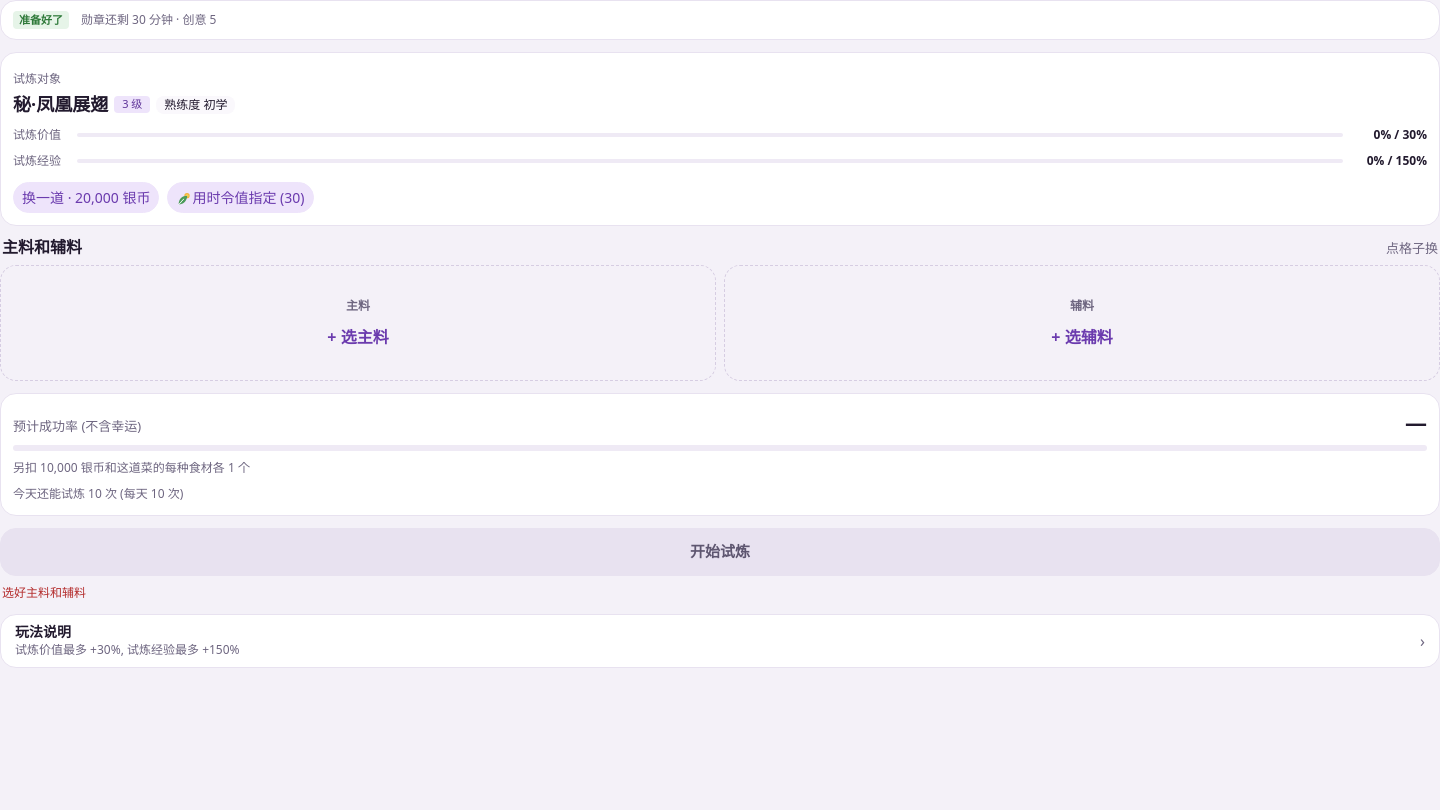
TrialPanel › 试炼后重读橱柜：数量跟着变，用光的从主辅里去掉、主料槽空出来（终审）
Click the button with test id "trial-slot-main" at (358, 322), box [0,264,716,380]
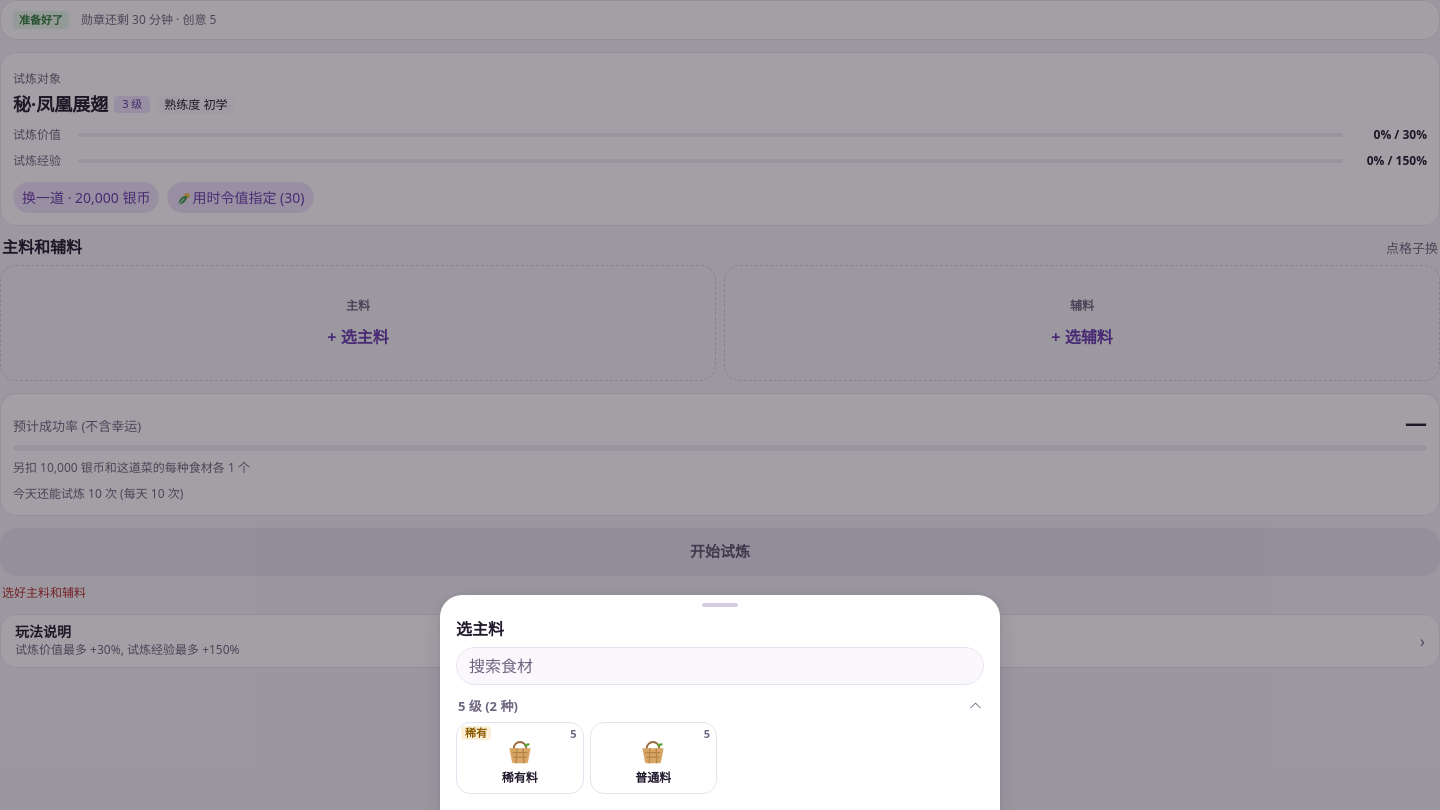
Click the button with test id "trial-food-150" at (520, 758), box [456,722,584,794]
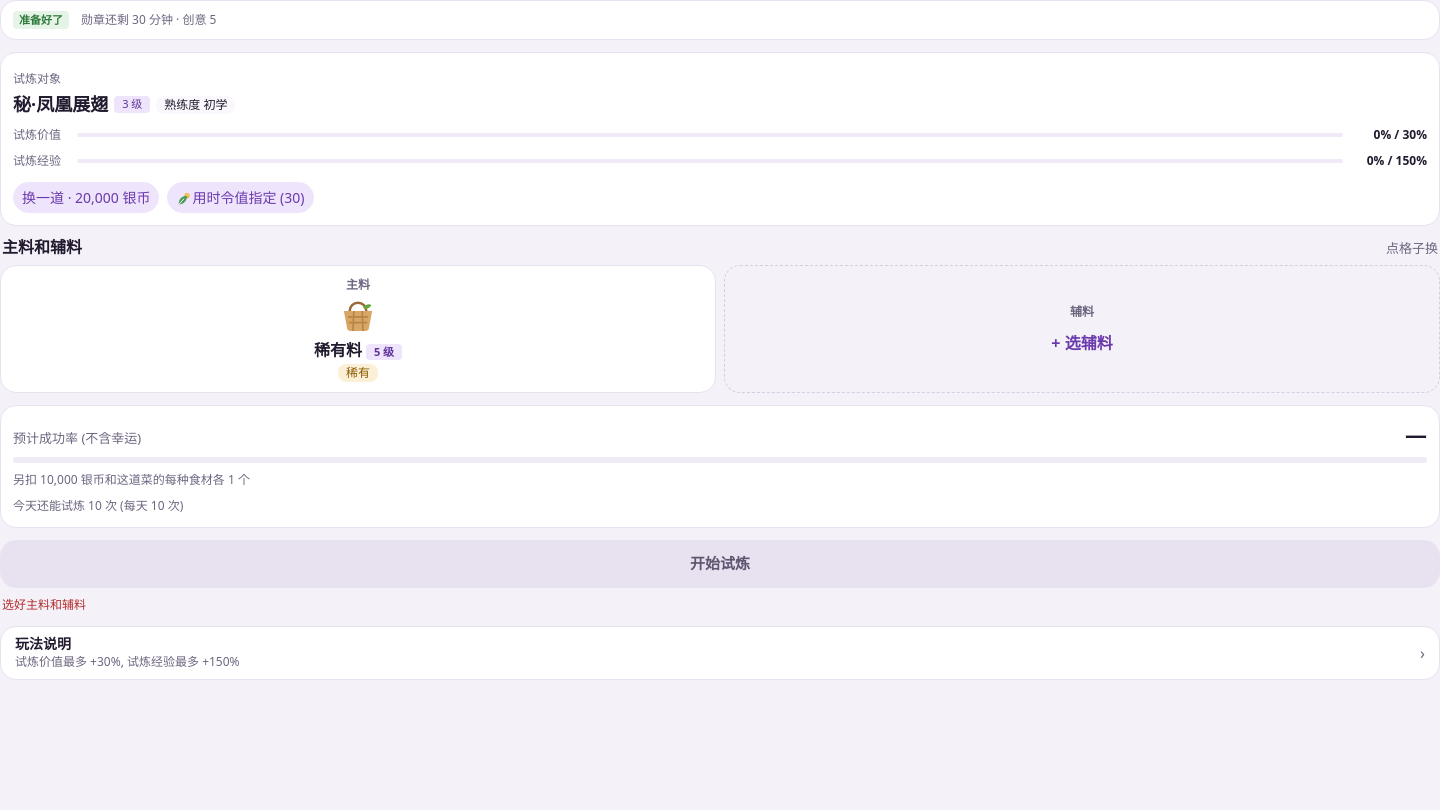
Click the button with test id "trial-slot-sub" at (1082, 328), box [724,264,1439,392]
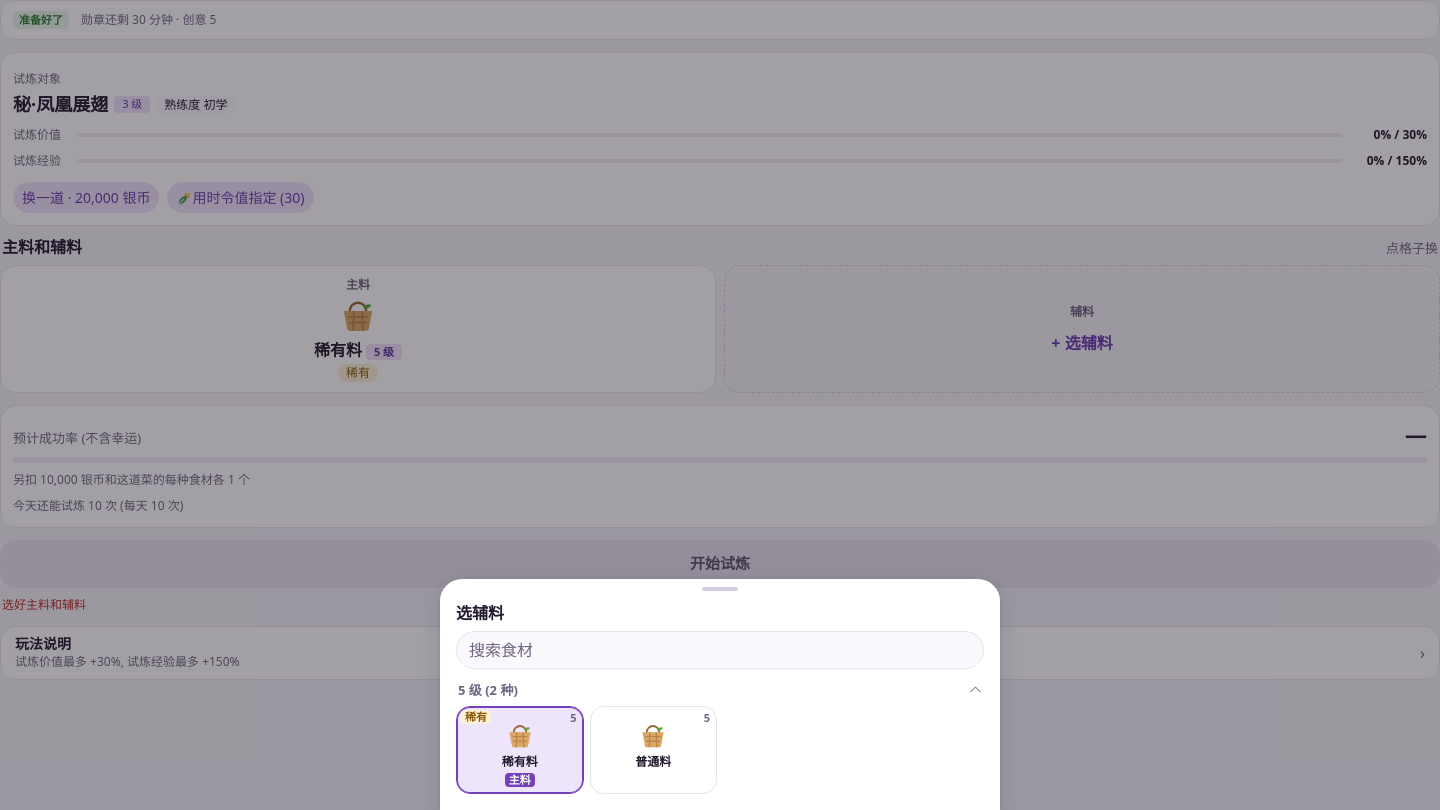
Click the button with test id "trial-food-423" at (653, 750), box [590,706,717,794]
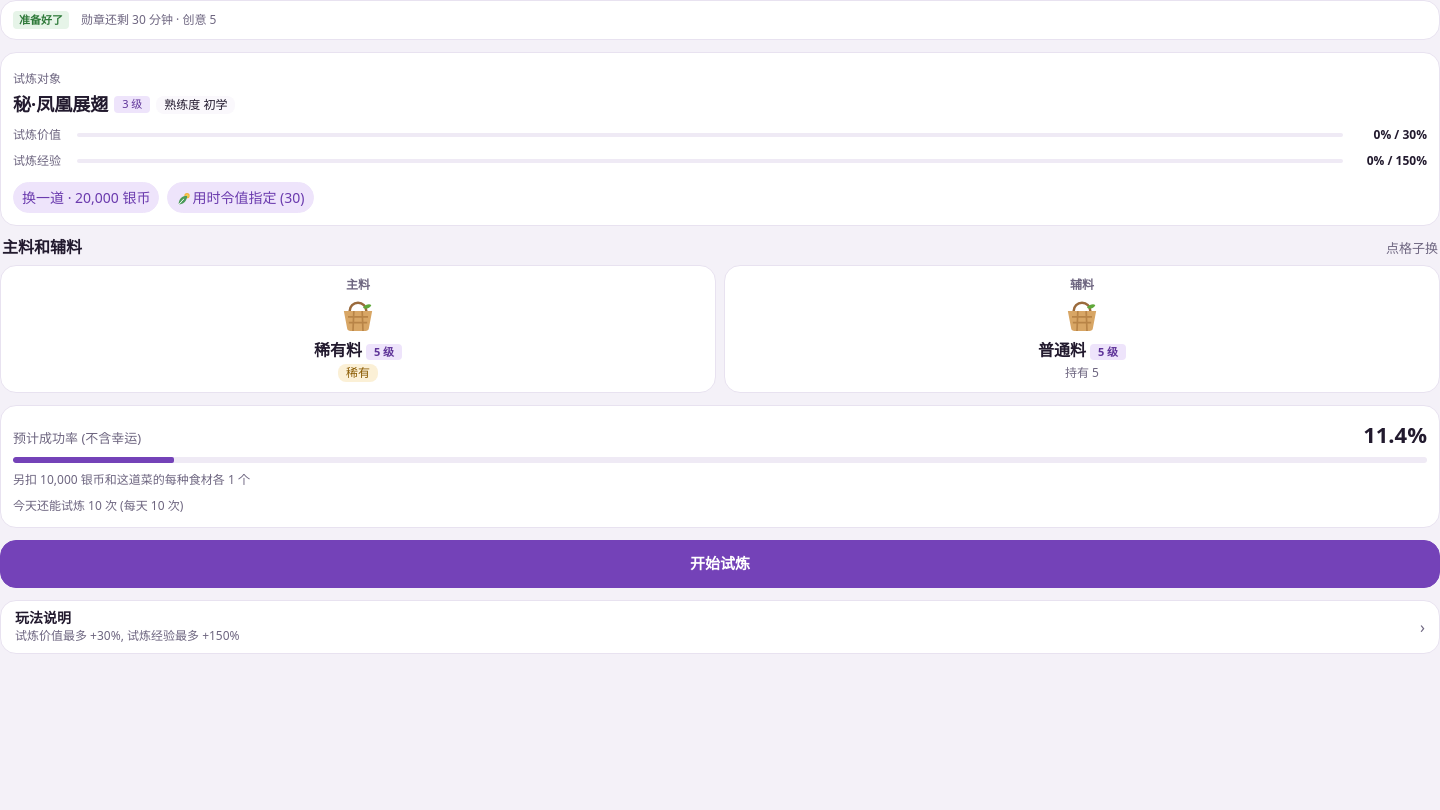
Check: the button with test id "trial-slot-sub" shows "持有 5", box [724,264,1439,392]
Click the button with test id "trial-start" at (720, 564), box [0,540,1439,588]
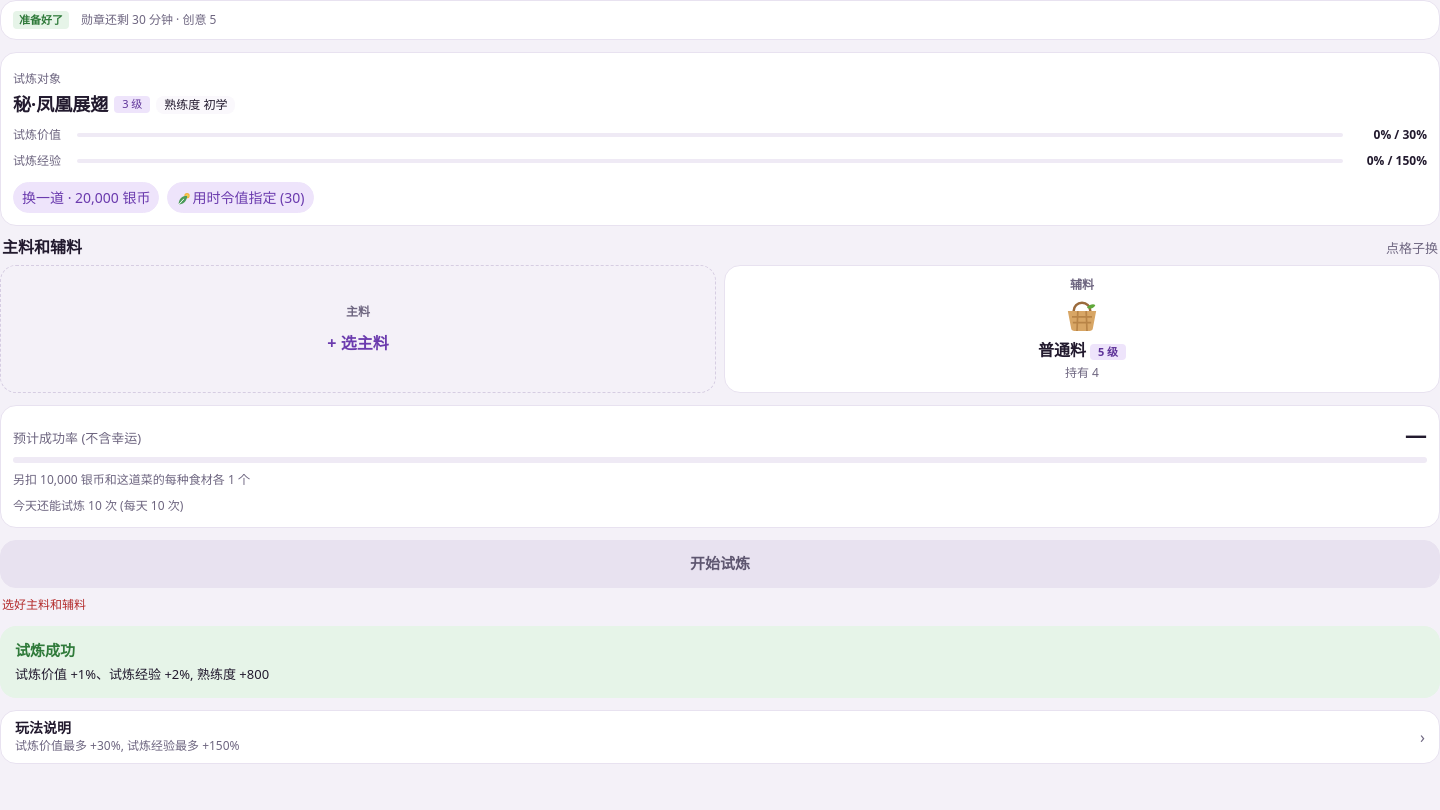
Check: the button with test id "trial-slot-sub" shows "普通料", box [724,264,1439,392]
Check: the button with test id "trial-slot-main" shows "+ 选主料"
Check: the button with test id "trial-slot-sub" shows "持有 4", box [724,264,1439,392]
Click the button with test id "trial-slot-main" at (358, 328), box [0,264,716,392]
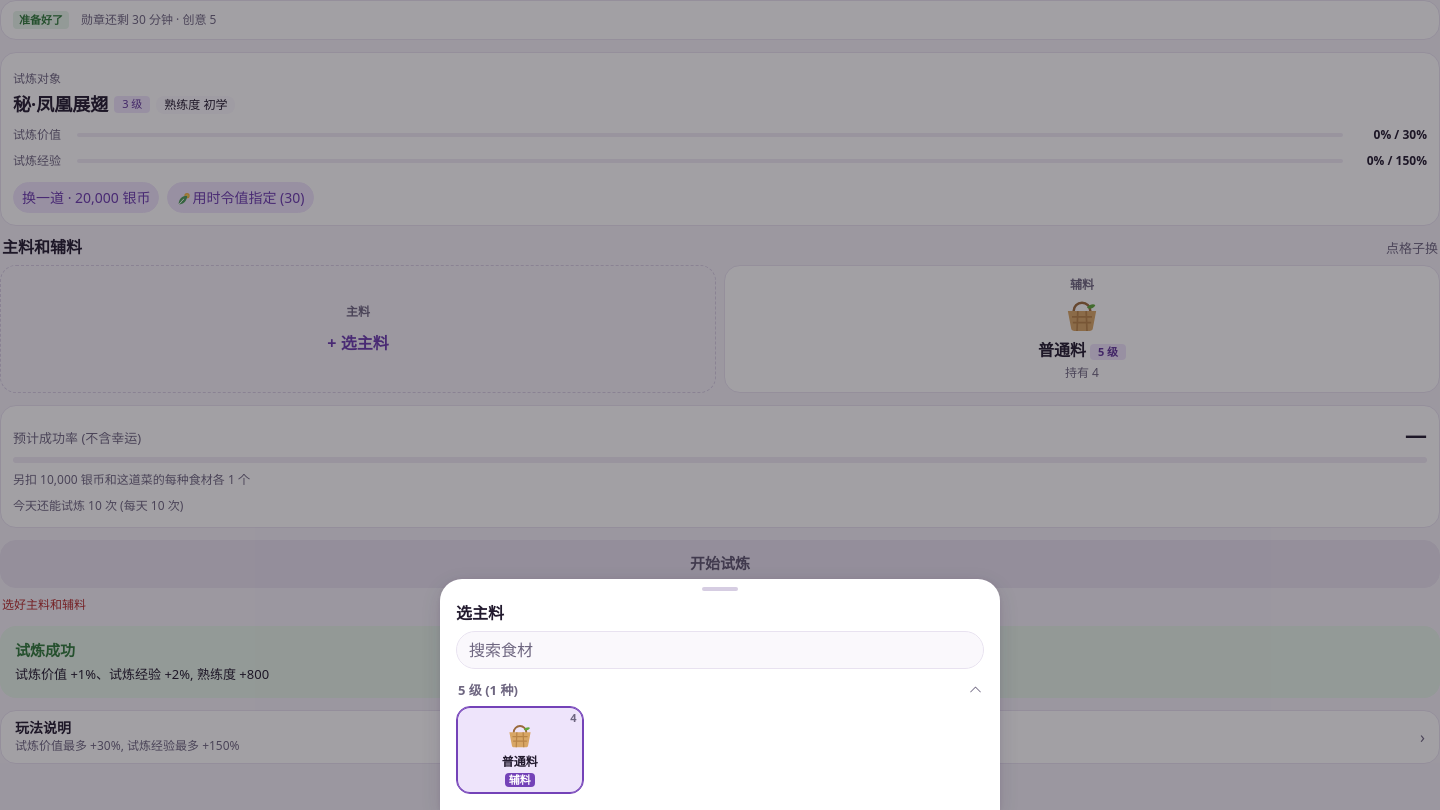
Check: the text with class "dt-trial-food-num" reads "4", box [570,710,576,725]
